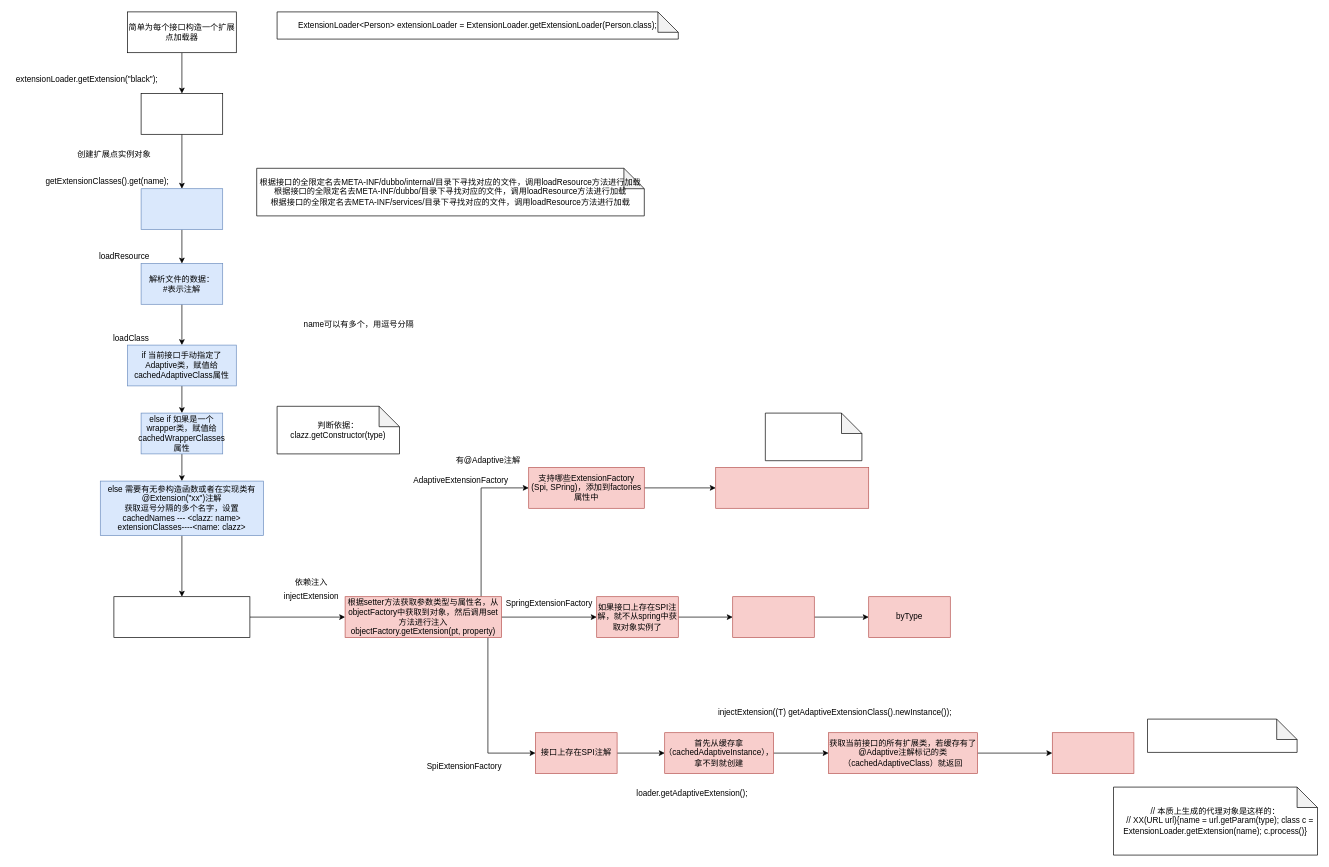
Image size: 1329x867. Some labels were removed from this diagram. Here are the shapes that lost their labels. From the top down, the centre of each, then its label:
the point at 181,113: 获取默认扩展类 @SPI("xx")
the point at 181,209: 加载、解析文件
the point at 813,436: SpringExtensionFactory,, SpiExtensionFactory
the point at 792,487: 遍历两个ExtensionFactory，从ExtensionFactory中得到实例，只要从某个ExtensionFactory中获取到对象实例就可以了
the point at 181,617: 实例缓存，如果没有实例，创建实例再缓存EXTENSION_INSTANCES
the point at 773,617: 从ApplicationContext中获取bean, byname
the point at 1093,753: 如果某个接口没有手动指定一个Adaptive类，那么就自动生成一个Adaptive类
the point at 1222,735: compiler.compile(code, classLoader);
